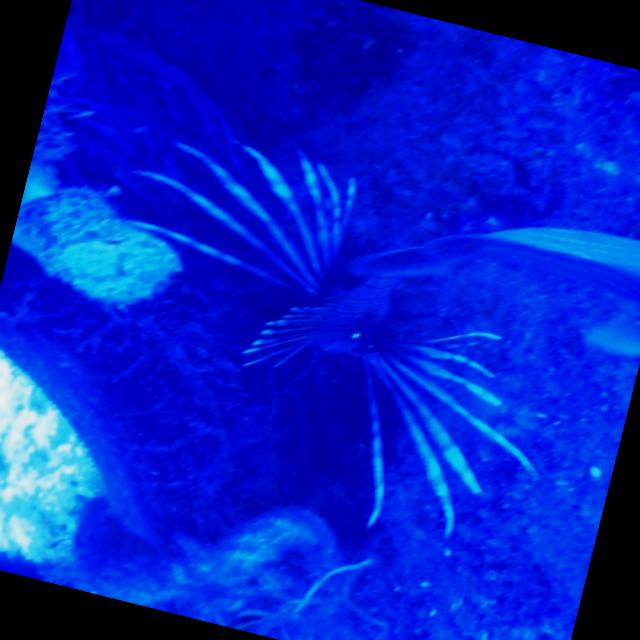Aslan Baligi: (60, 112, 604, 562)
